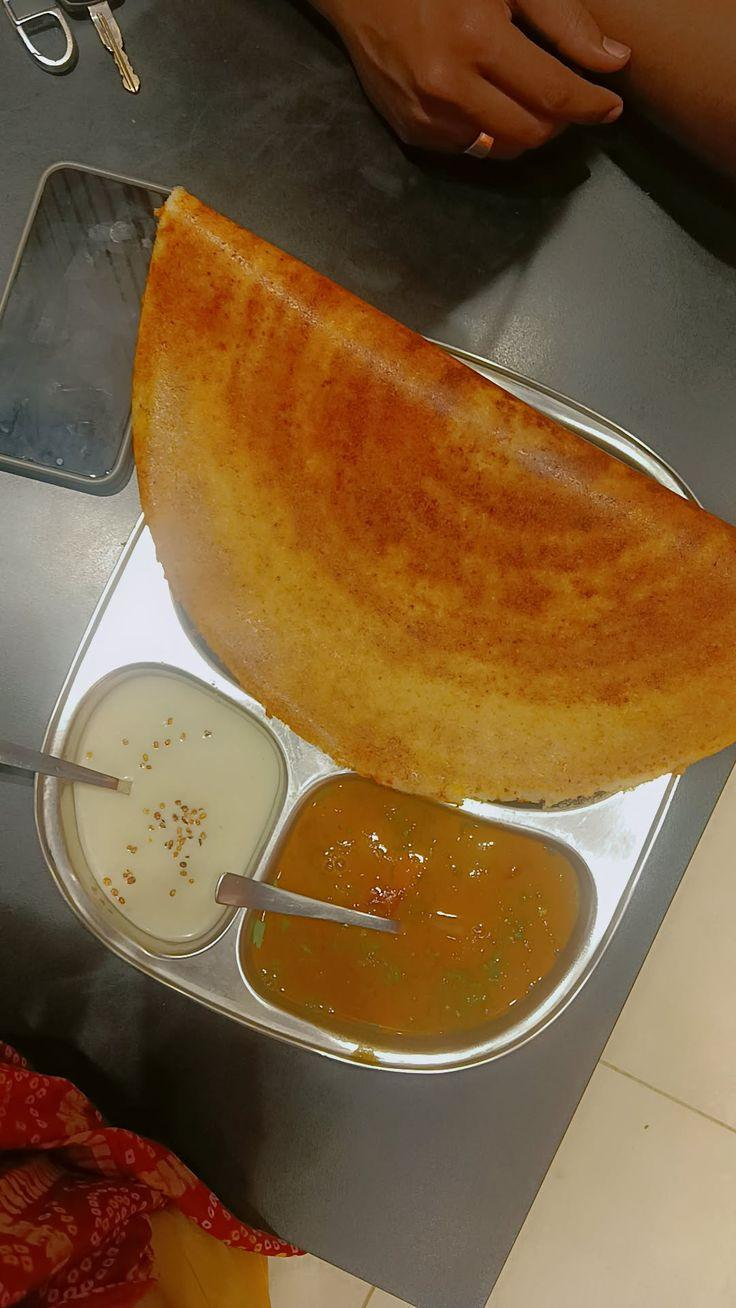dosa: (170, 198, 736, 787)
